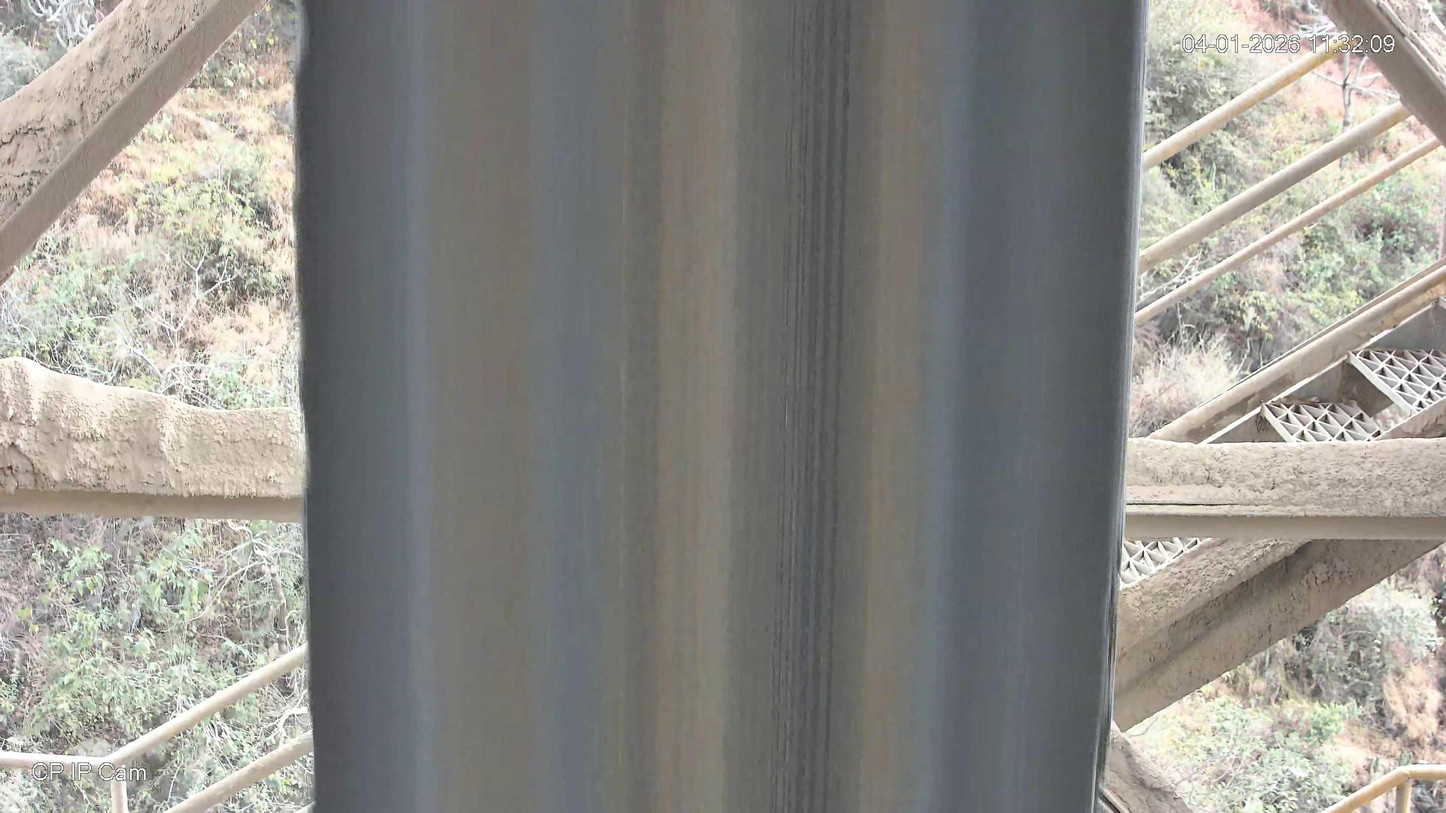belt_roi: (297, 0, 1151, 813)
